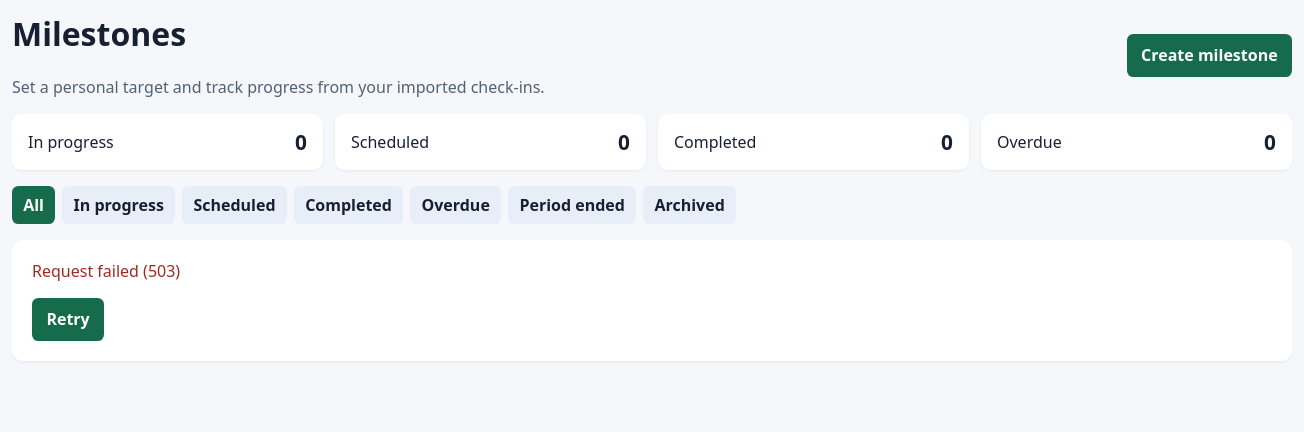
Test case: overview handles empty, error, retry, and archived filter
Expected: the message shows "503", [32,260,180,282]
Click the button "Retry" at (68, 319), box [32,298,104,341]
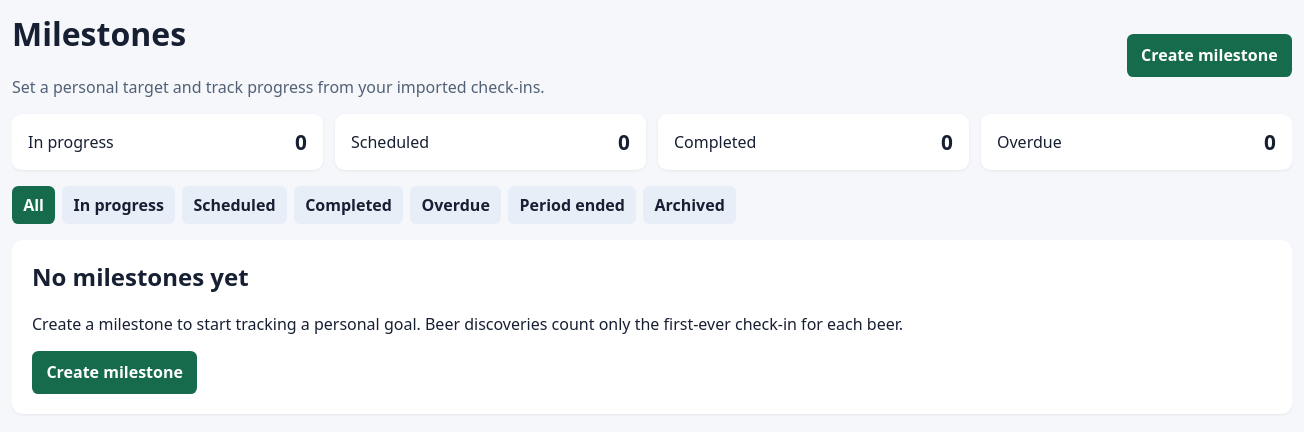
Expected: the heading "No milestones yet" is shown, [32,260,249,293]
Click the button "Archived" at (690, 205), box [643,186,736,224]
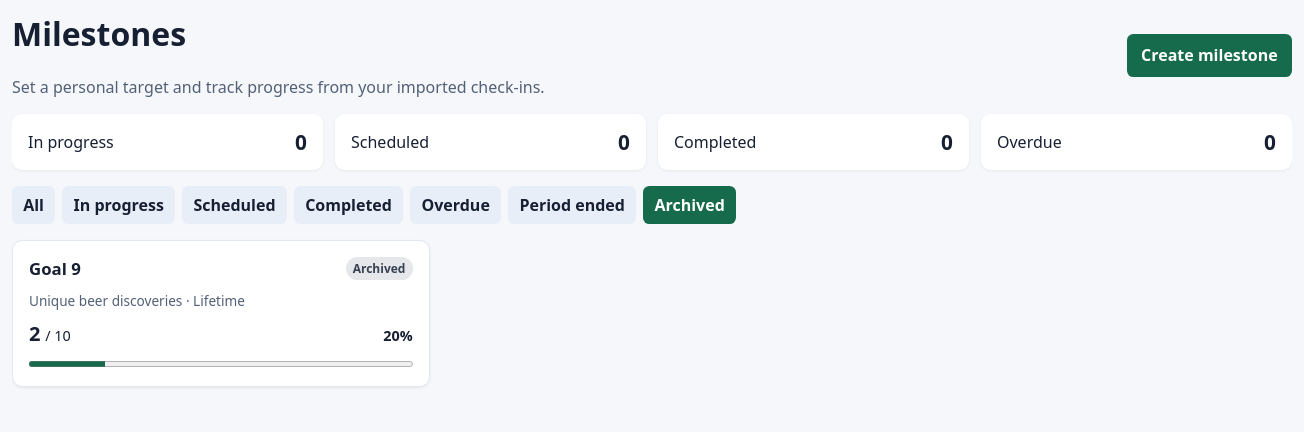
Expected: the heading "Goal 9" is shown, [29,257,81,280]
